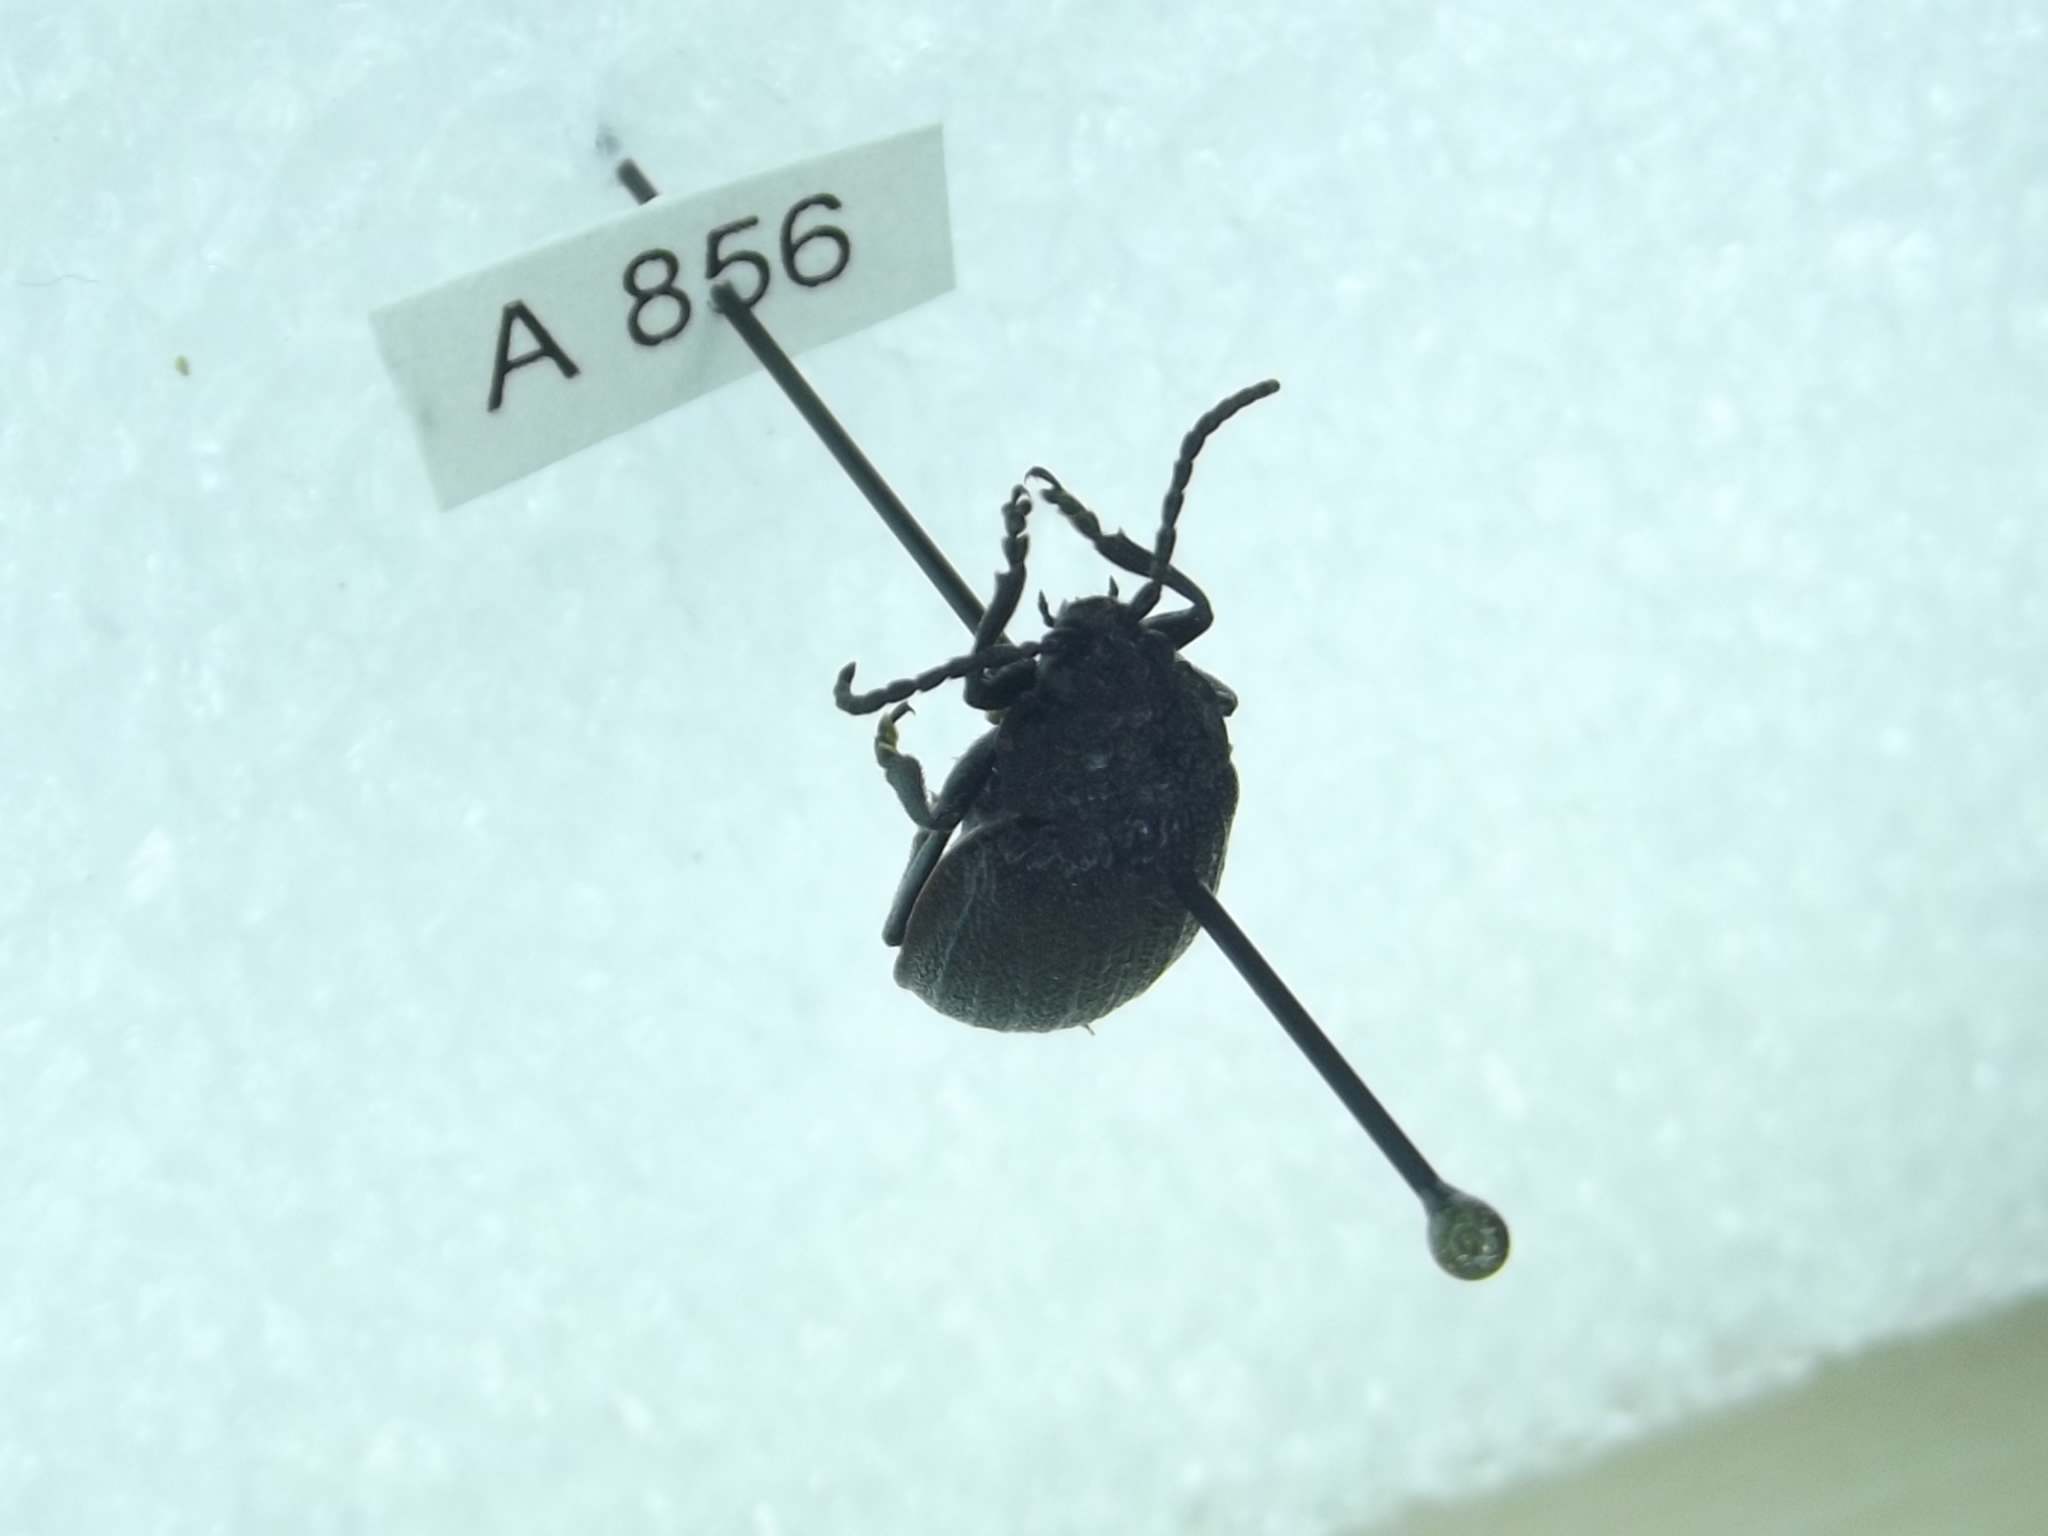Galeruca_tanaceti: (830, 376, 1326, 1044)
